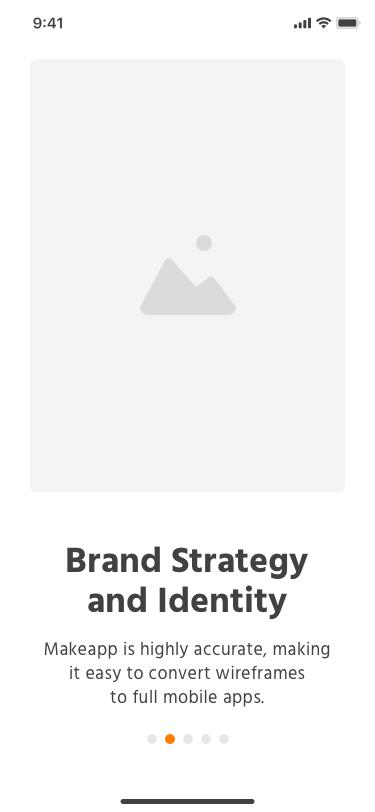Image: (32, 59, 346, 493)
PageIndicator: (147, 733, 231, 745)
Text: (43, 640, 332, 708), (66, 546, 310, 620)
UpperTaskBar: (34, 17, 362, 30)
